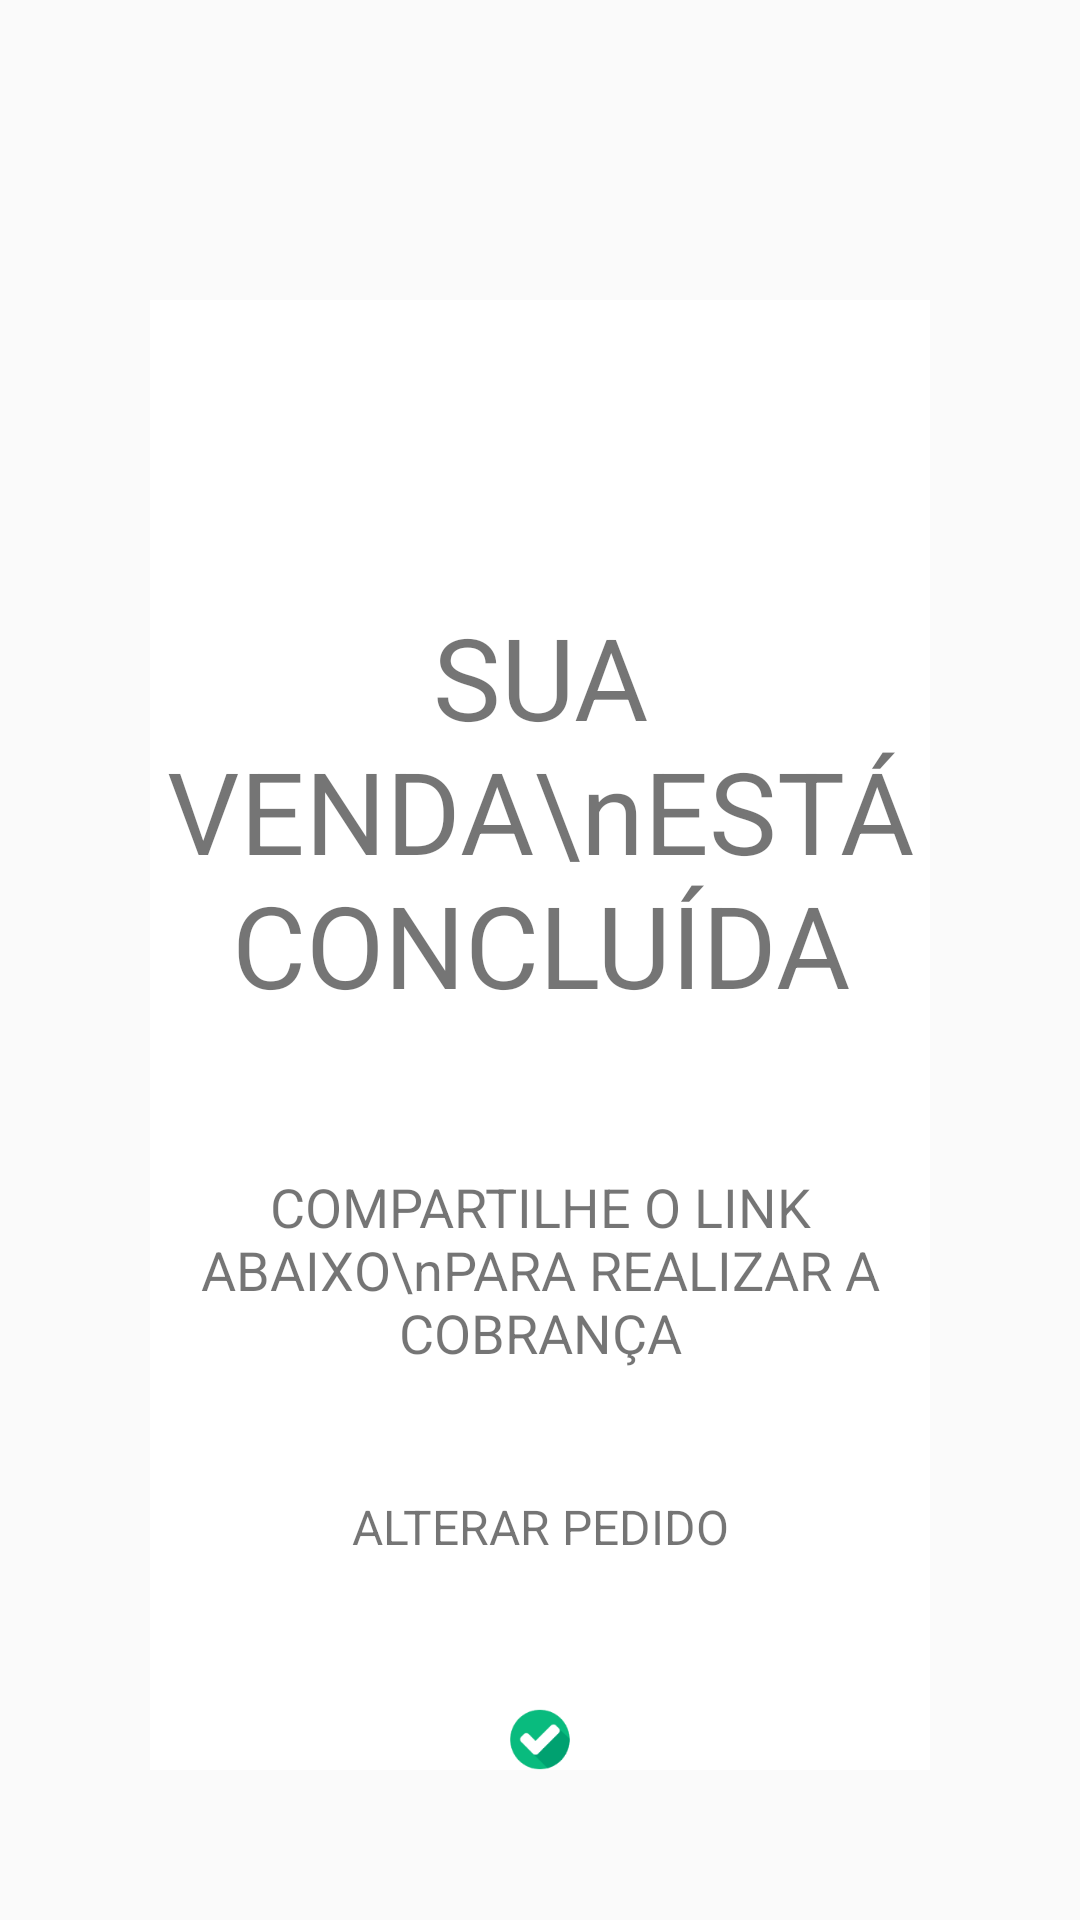

Icon click points for this 1080×1920 phone screenshot, format (x=x, y=y):
deu bom coiso: (x=540, y=1739)
